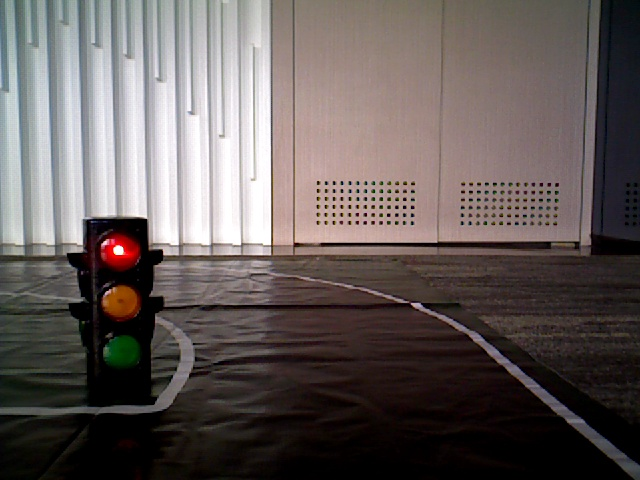red: (85, 224, 149, 365)
